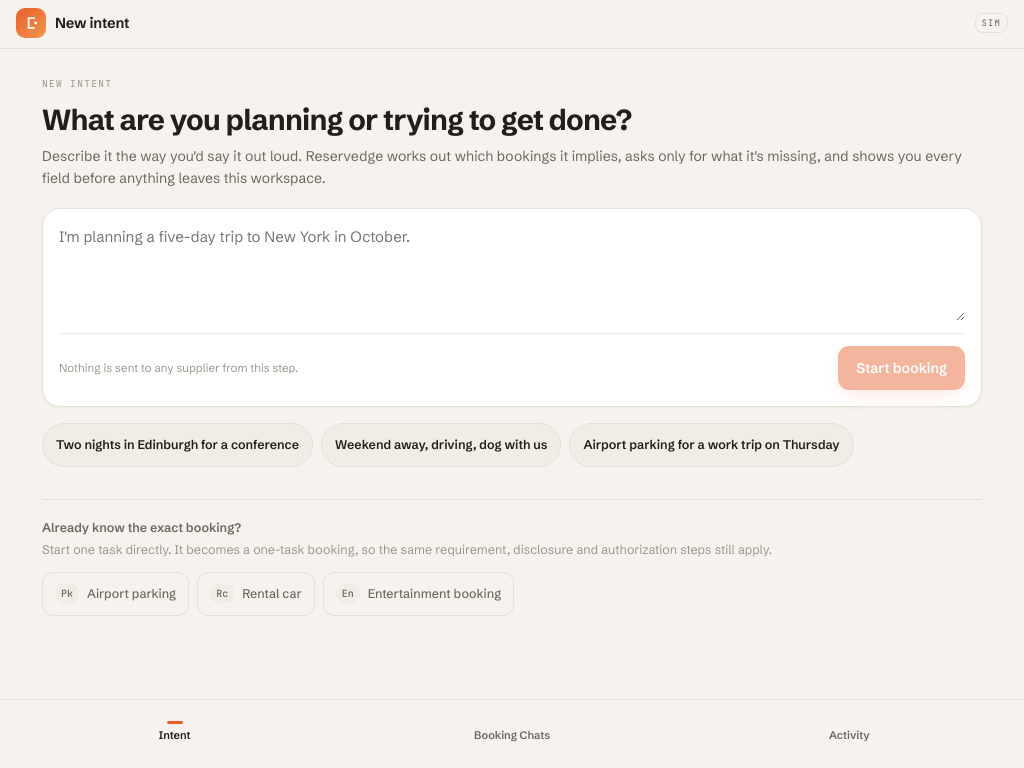
Test case: COMP-AWS-03 Clarify & plan agent UI › shows buyer-safe progress while the first plan turn is in flight
This screenshot has width=1024, height=768.
Type "I'm going away next month and I'll need a car." into the text box labelled "What are you planning or trying to get done?" at (512, 273), box [59,225,965,321]
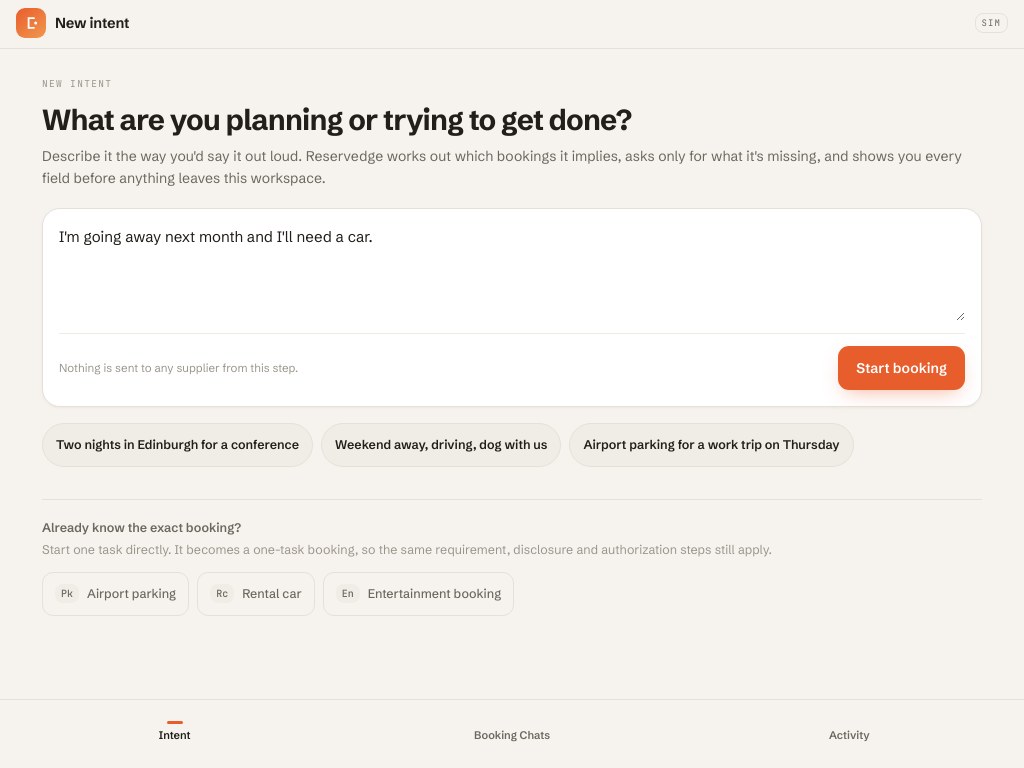
Click the button "Start booking" at (902, 368), box [838,346,965,390]
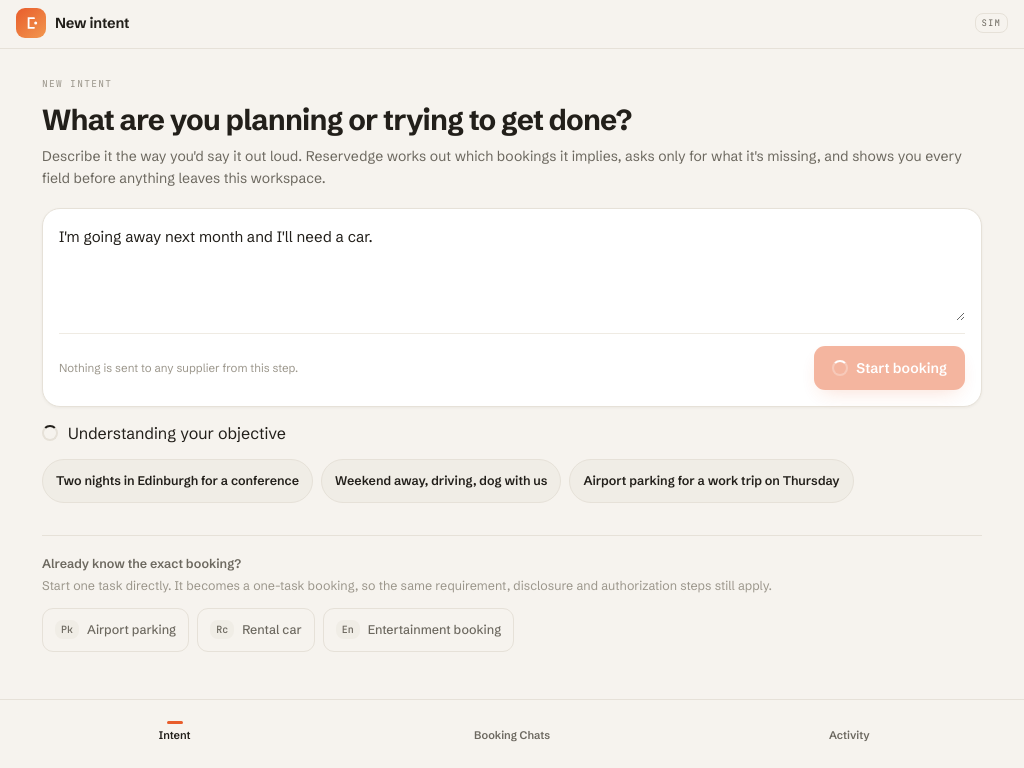
Check: the message reads "Understanding your objective", box [68,423,286,443]
Check: the 1st element with class "re-processing-spinner" is shown, box [832,360,848,376]
